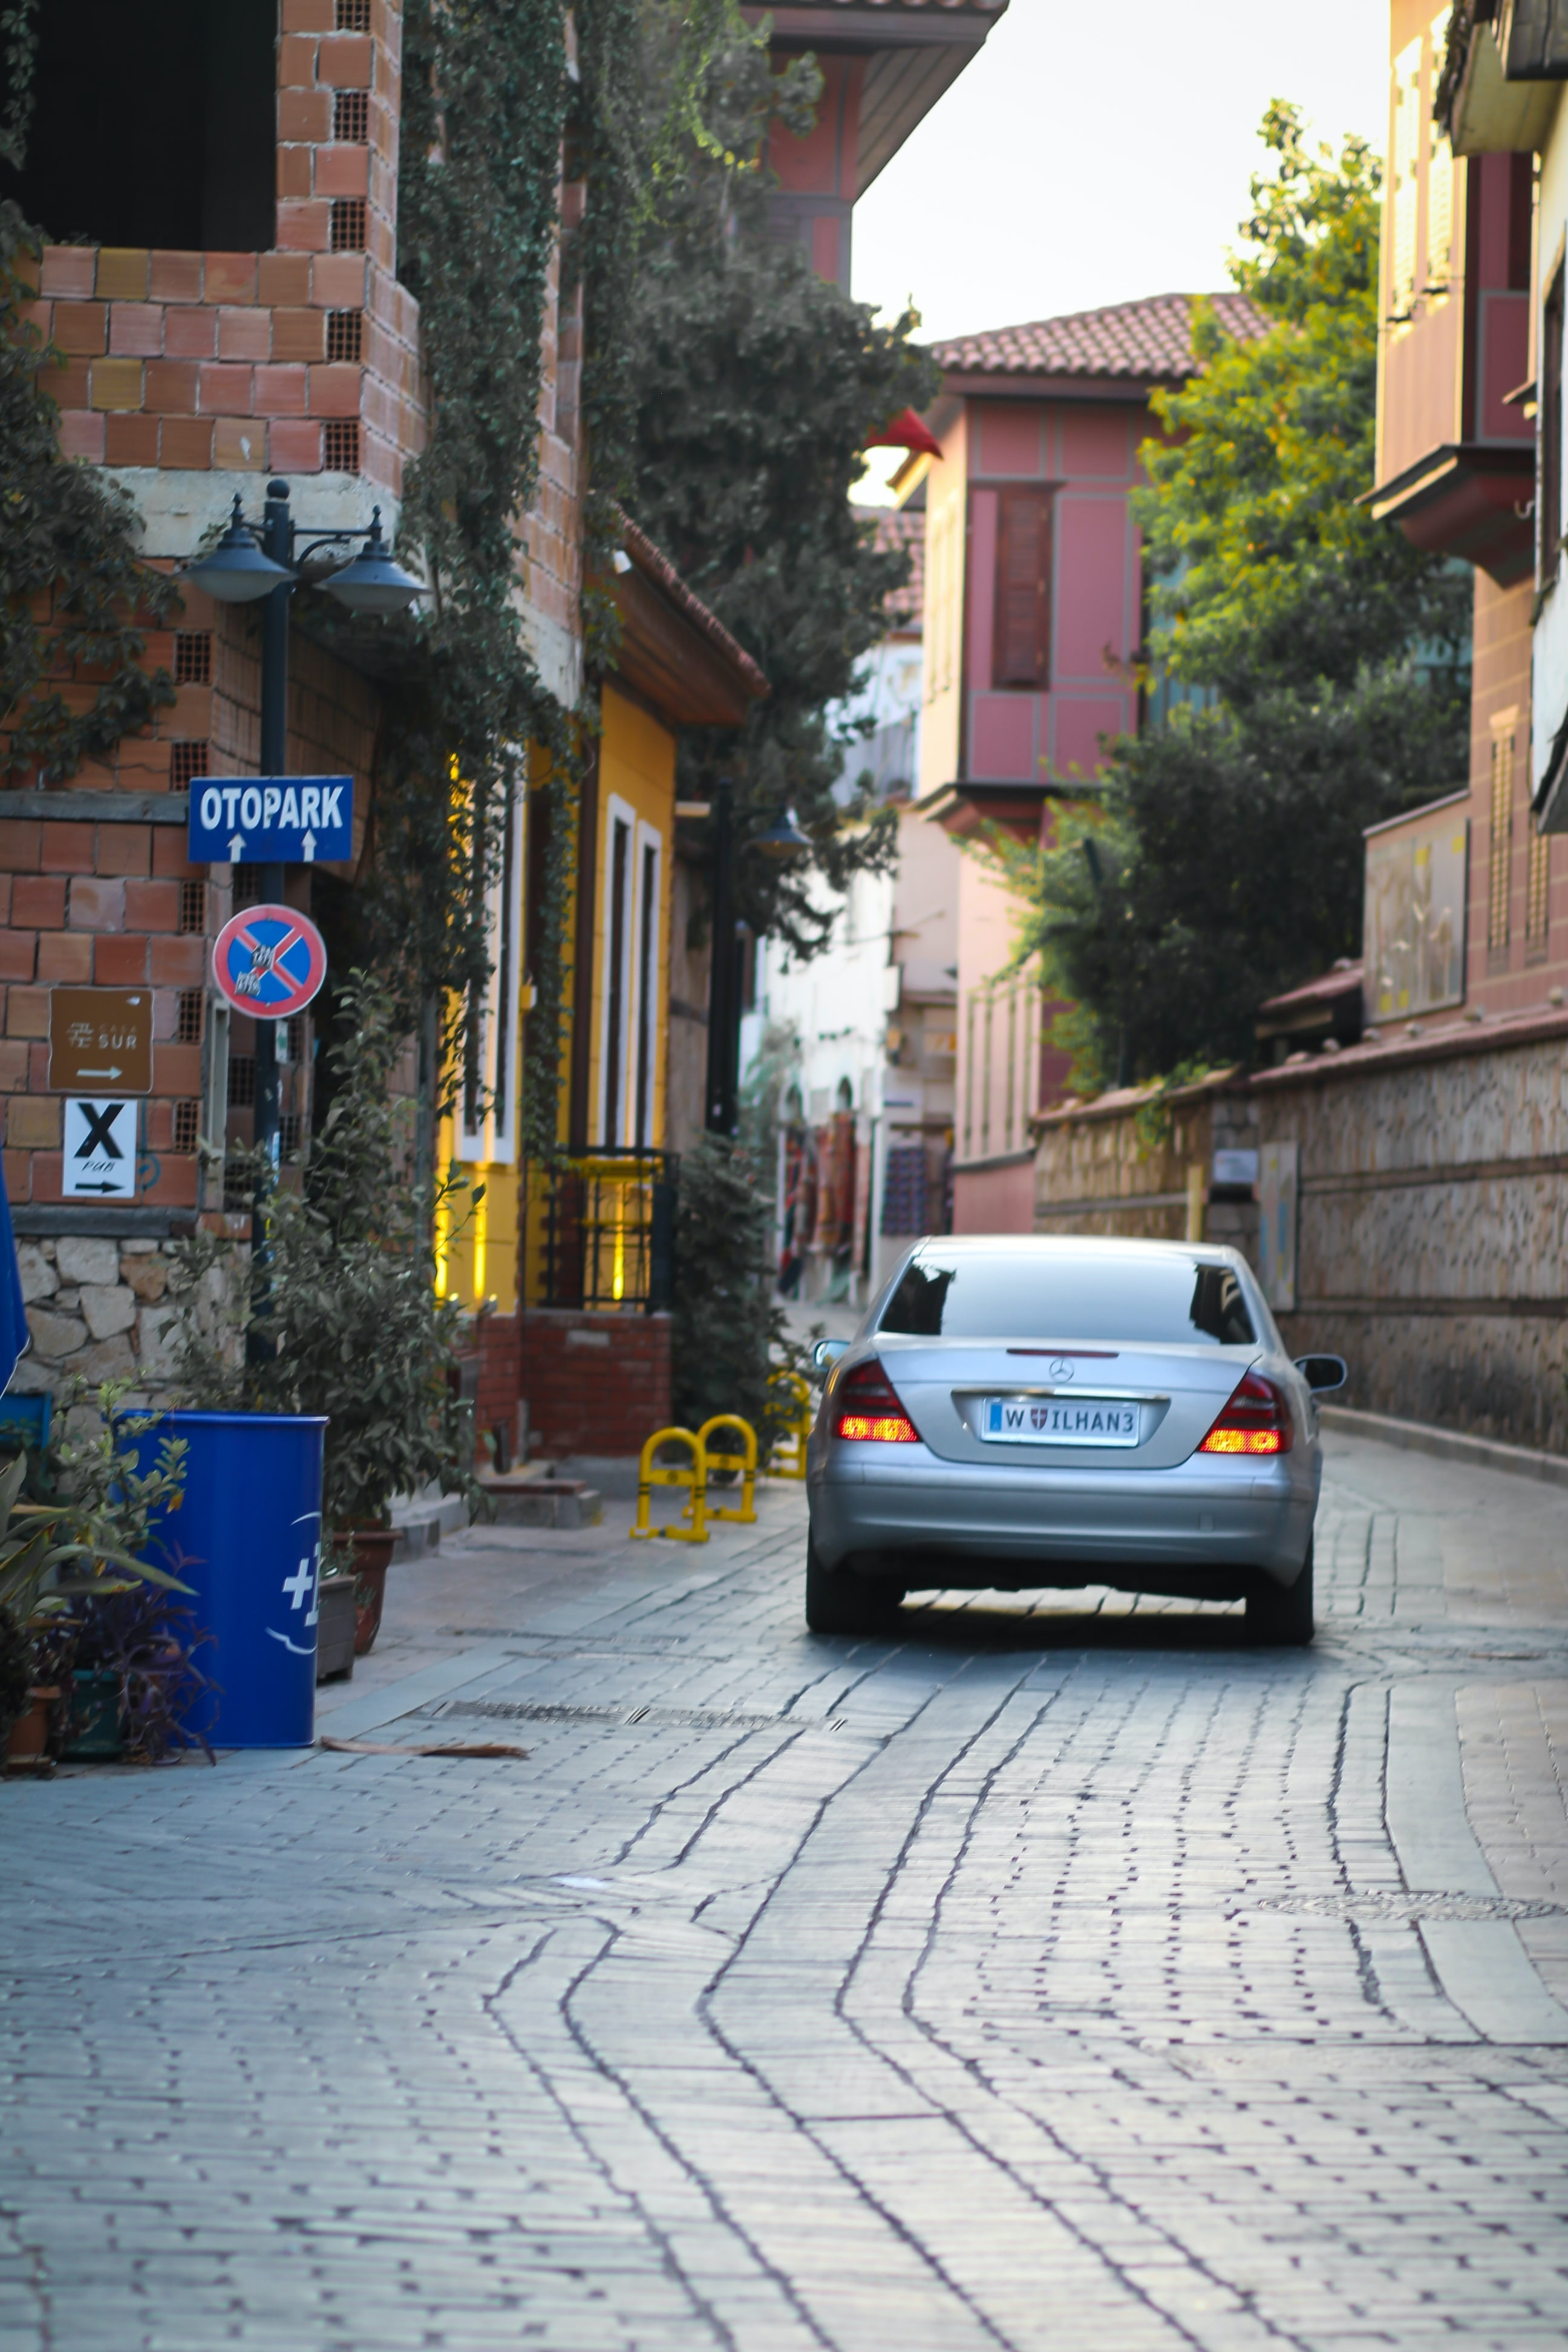plaka: (985, 1398, 1138, 1442)
